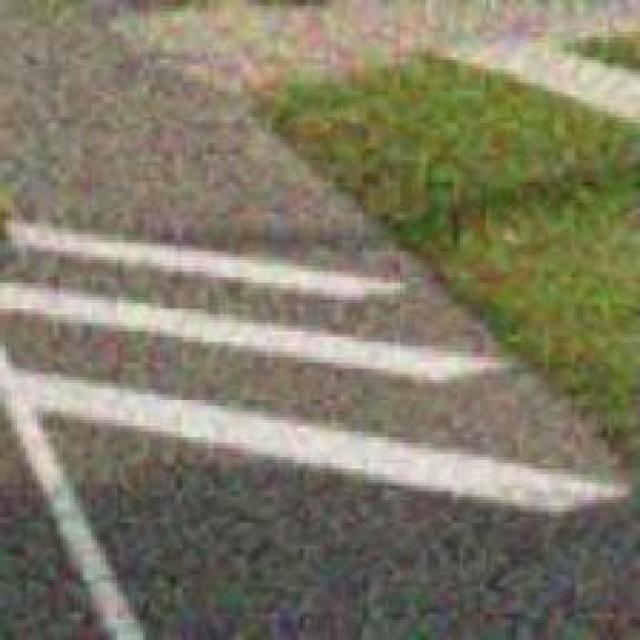walk-crossing: (0, 175, 629, 556)
